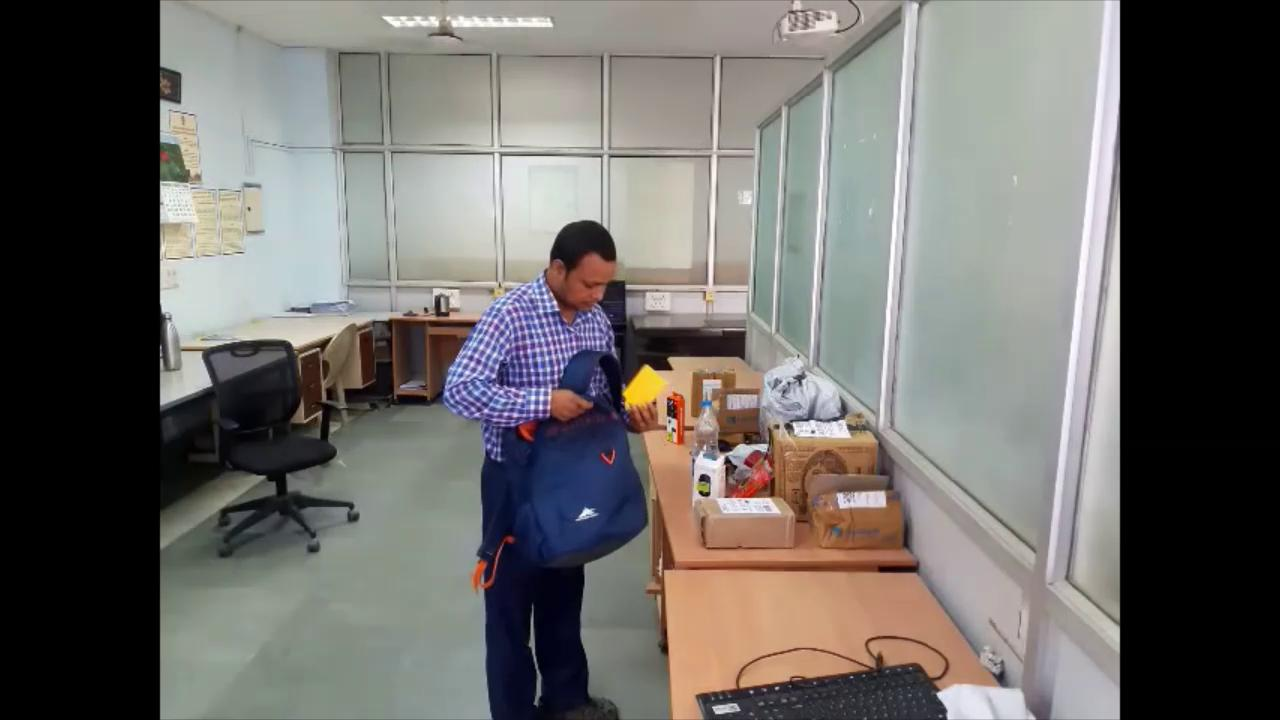shoplifting: (435, 208, 678, 720)
